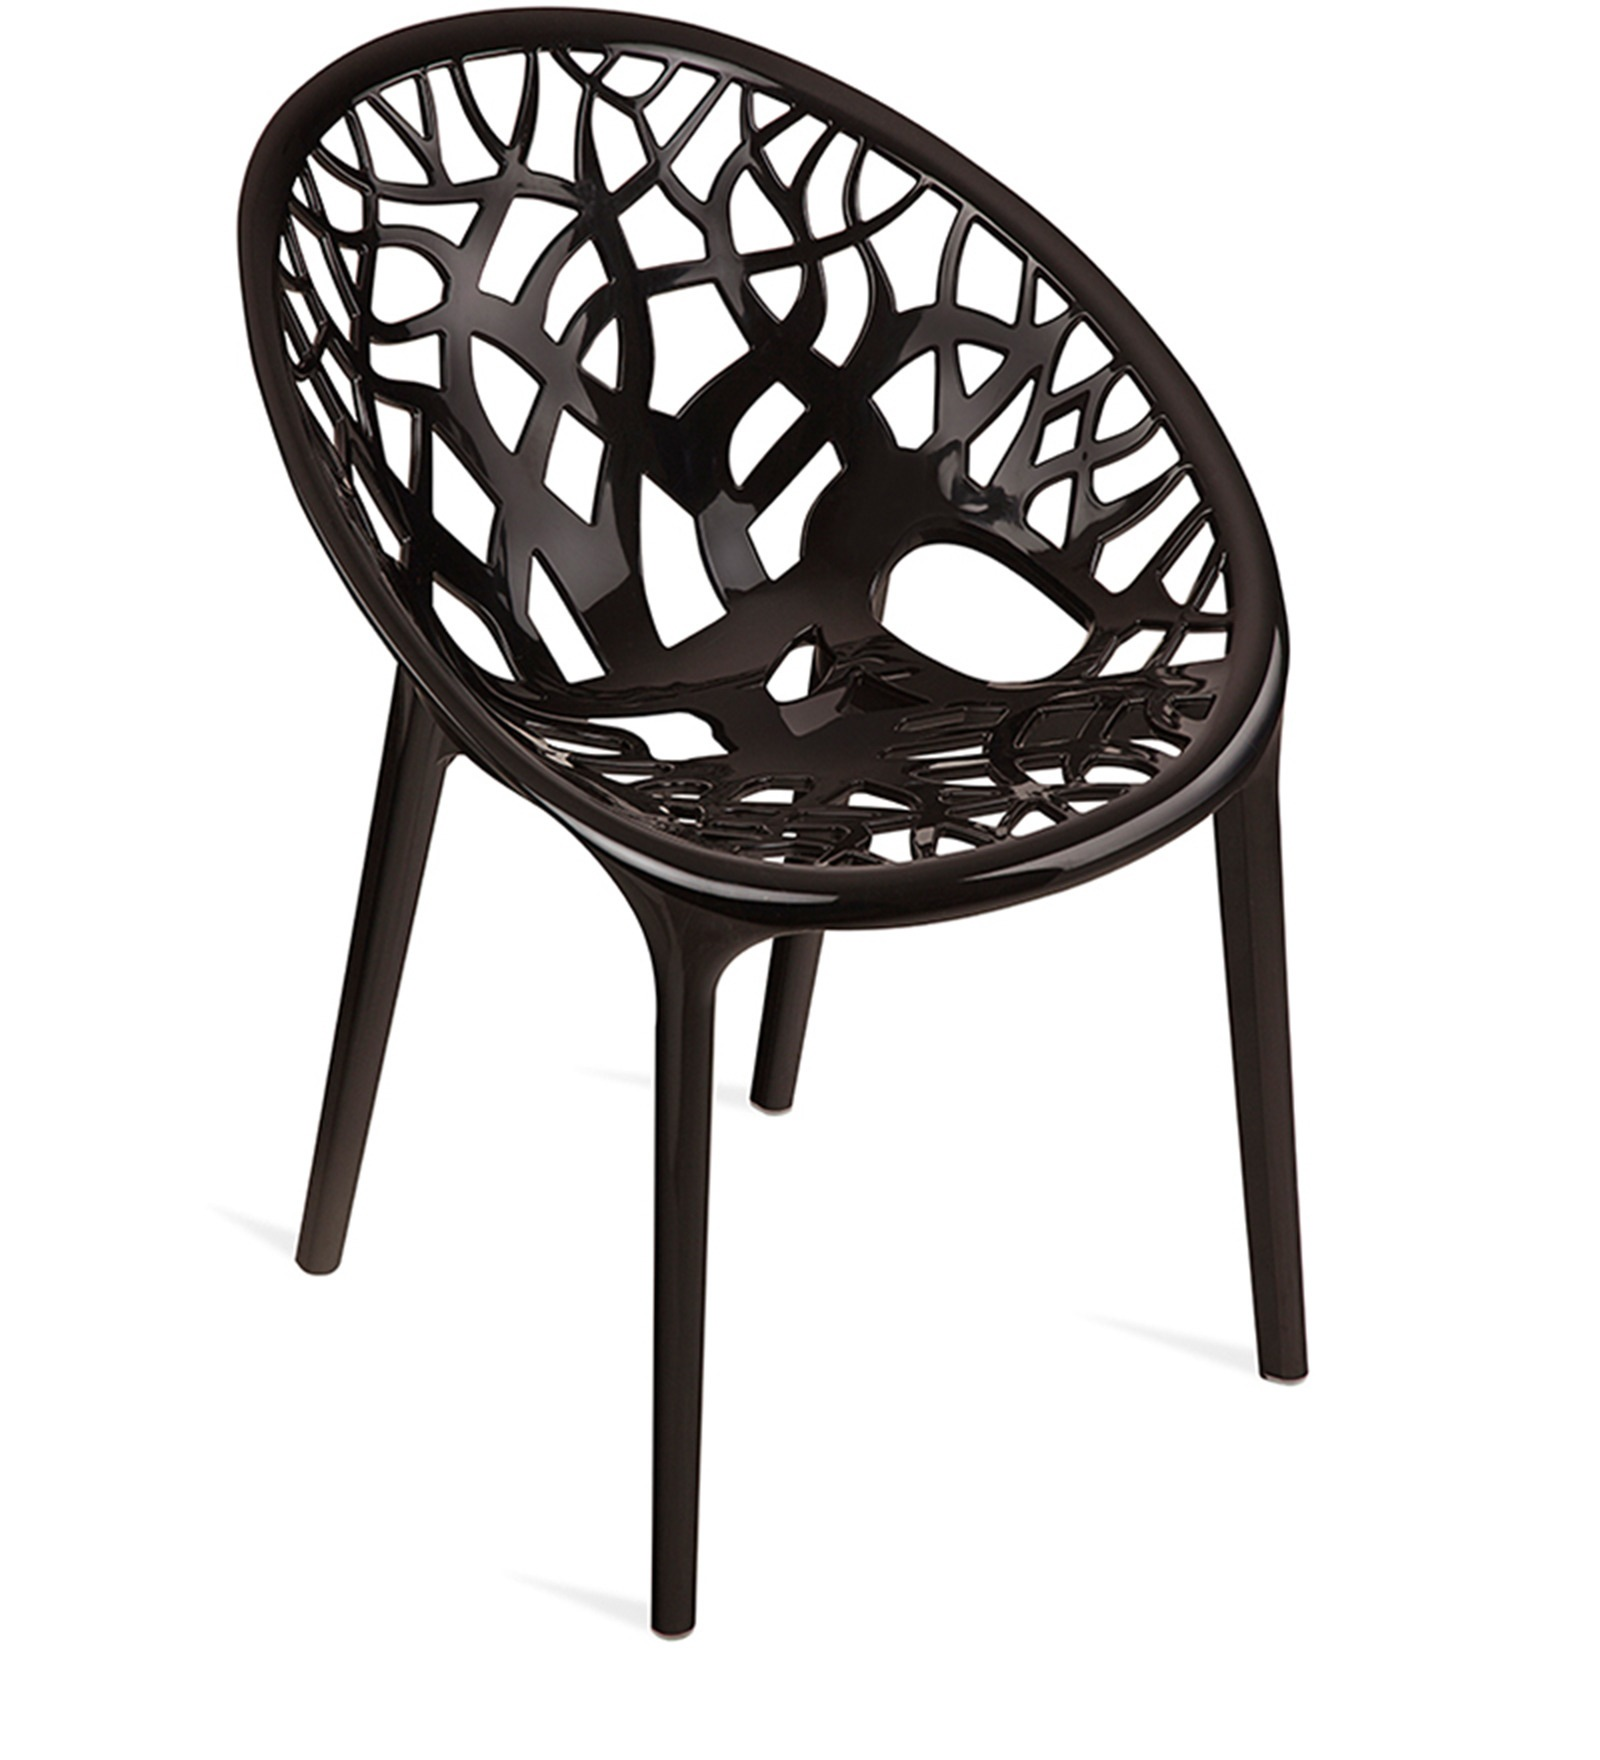Crystal Designer Chair in Black Colour by Nilkamal: (192, 20, 1373, 1639)
